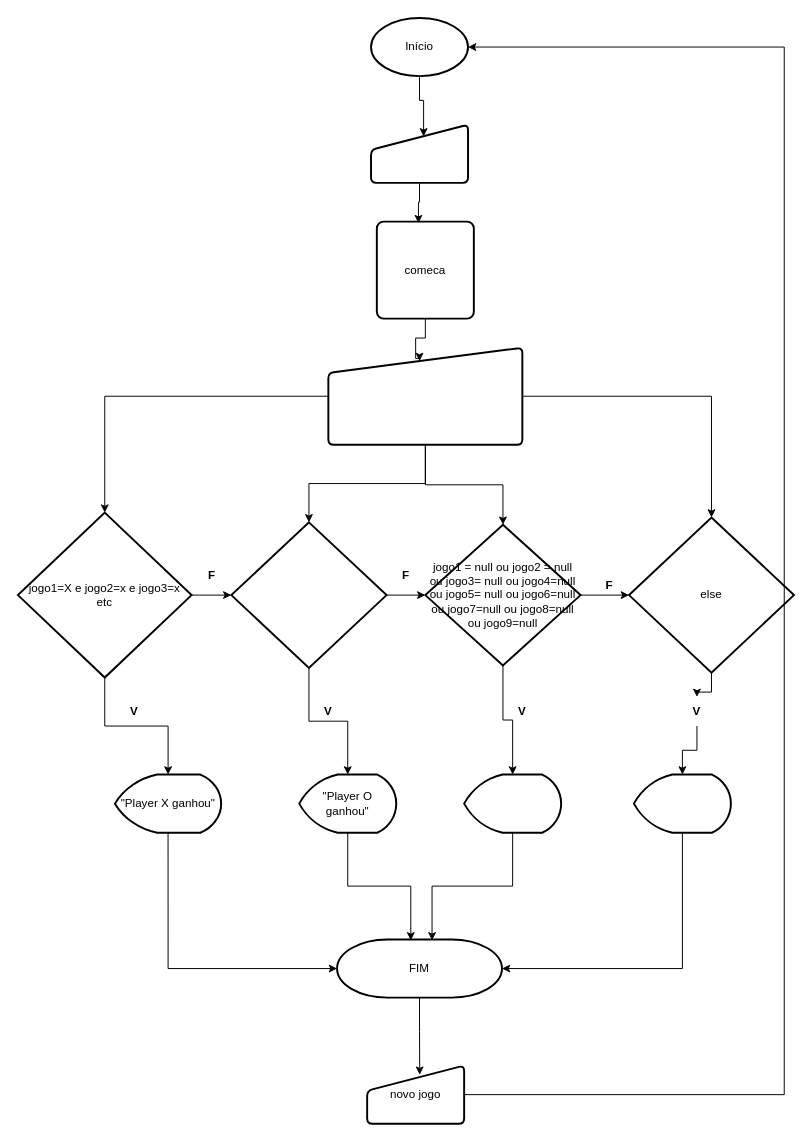
This 811x1141 diagram has some shape labels left out. Here are the shapes that lost their labels. From the top down, the centre of each, then its label:
[419,153]: jogar
[425,395]: x1, x2. x3. x4, x5, x6, x7, x8, x9, o1, o2, o3, o4, o5, o6, o7, o8, o9
[308,594]: jogo1=O e jogo2=O e jogo3=O etc
[512,803]: "O jogo não terminou"
[681,803]: "Empate"
